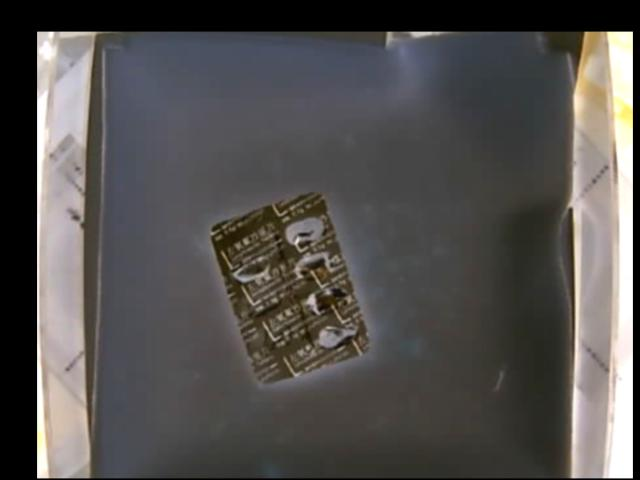Medicine: (206, 191, 368, 376)
